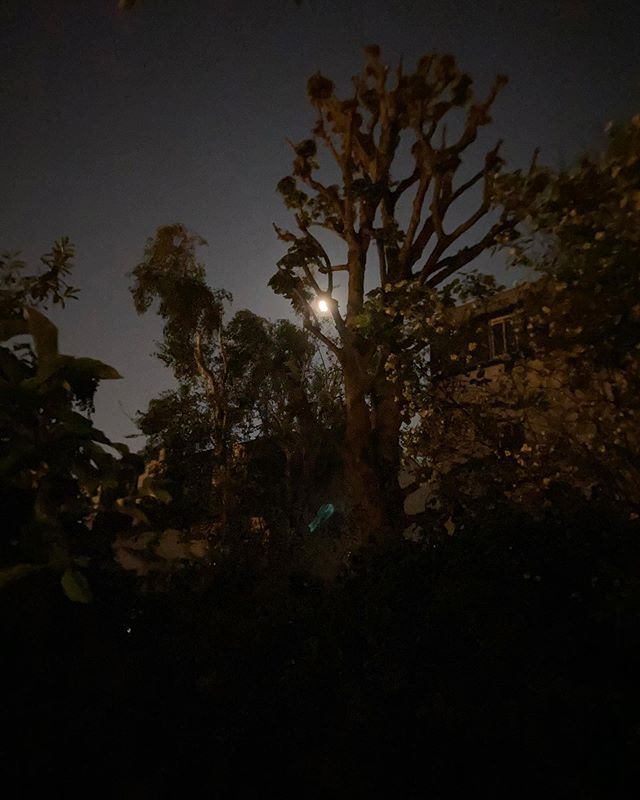sky: (16, 1, 640, 325)
tree: (265, 32, 527, 542), (549, 127, 640, 671), (125, 249, 276, 521)
